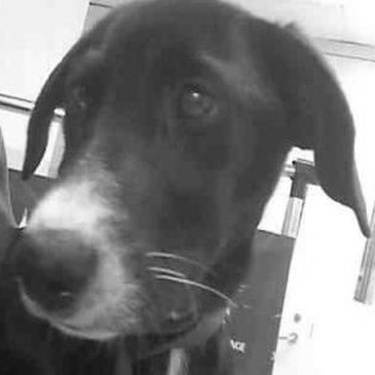dog: (1, 1, 372, 371)
